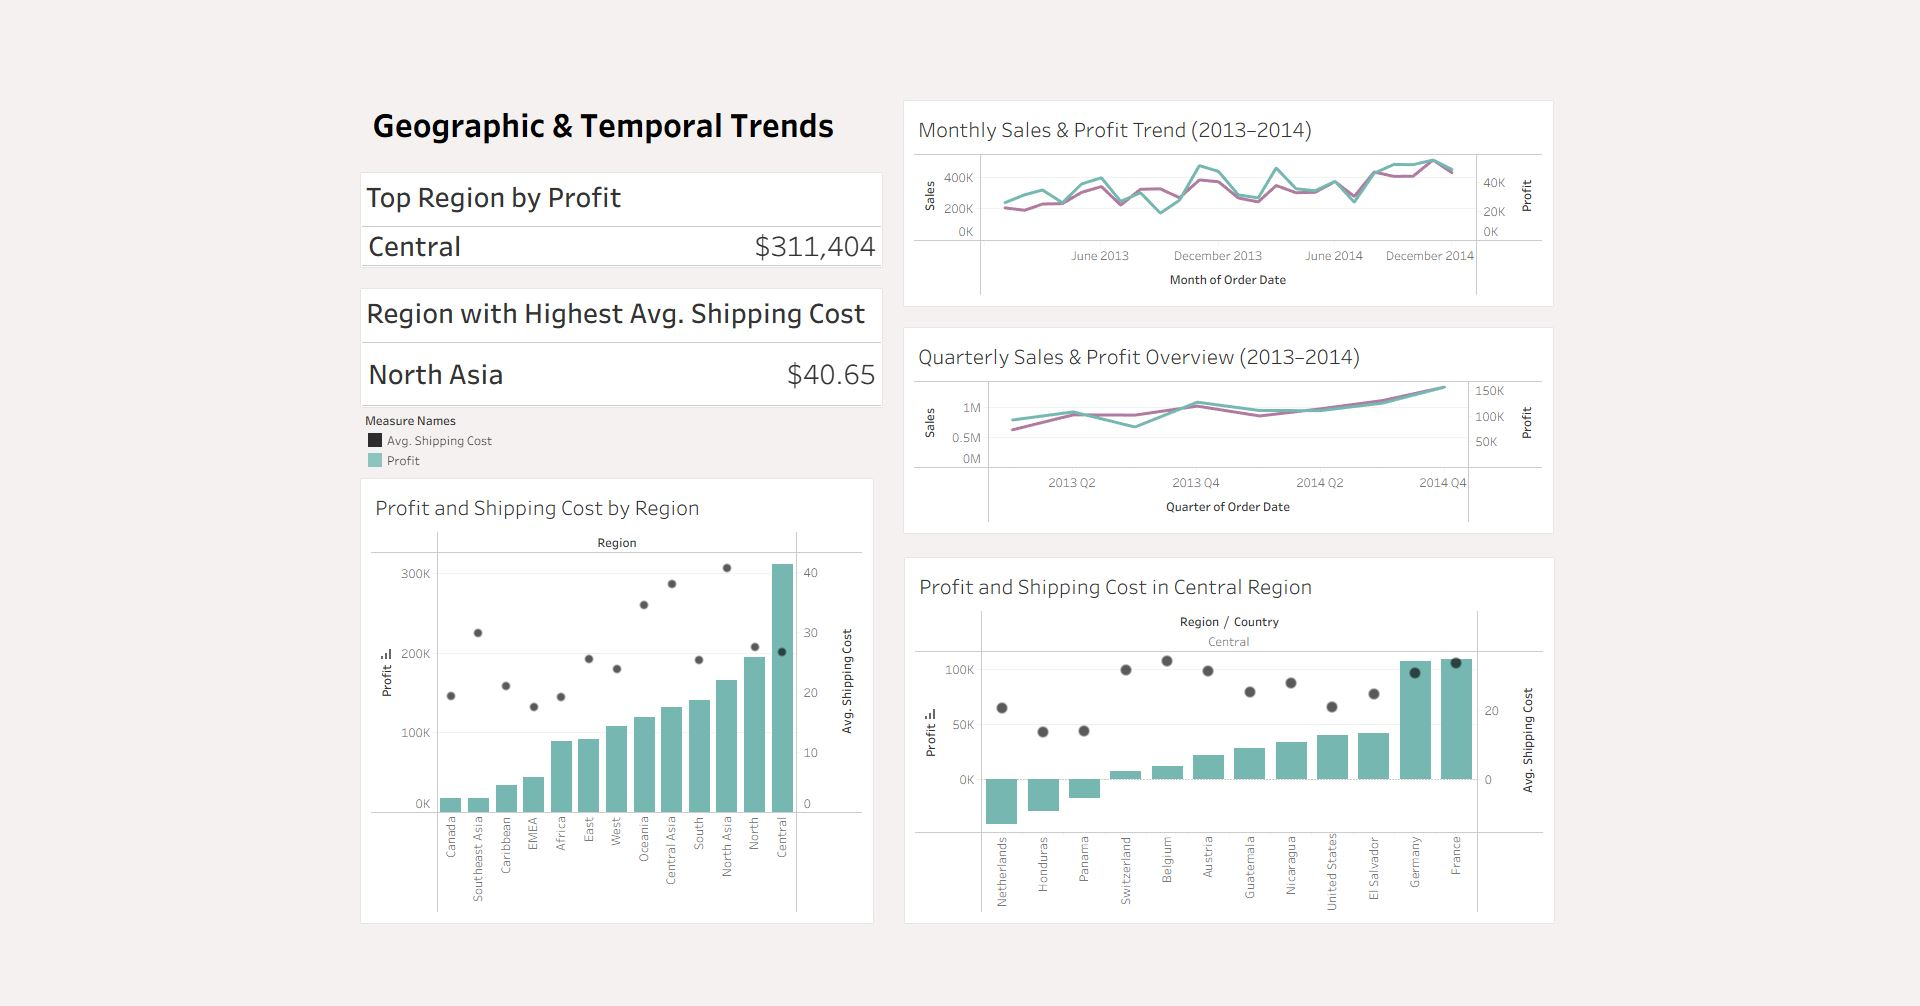

This screenshot's page, from the dashboard's own definition file:
{"tool":"tableau","page":{"name":"Geographic & Temporal Trends","canvas":[1000,1000],"units":"permille","ordinal":1},"visuals":[{"type":"text","box":[0,16.3,445.1,87.2]},{"type":"worksheet","title":"Monthly Sales & Profit Trend (2013–2014)","mark":"Automatic","rows":["Sales","Profit"],"cols":["Order_Date"],"box":[445.1,19.8,550,263.9]},{"type":"worksheet","title":"Top Region by Profit","mark":"Automatic","rows":["Region"],"box":[0,103.5,445.1,134.9]},{"type":"worksheet","title":"Region with Highest Avg. Shipping Cost","mark":"Automatic","rows":["Region"],"box":[0,238.4,445.1,162.8]},{"type":"worksheet","title":"Quarterly Sales & Profit Overview (2013–2014)","mark":"Automatic","rows":["Sales","Profit"],"cols":["Order_Date"],"box":[445.1,283.7,550,263.9]},{"type":"legend","title":"Profit and Shipping Cost in Central Region","param":"[federated.0g22q150zr19dk14zl6151vhu72g].[:Measure Names]","box":[9,389.5,120.5,114]},{"type":"worksheet","title":"Profit and Shipping Cost by Region","mark":"Bar","rows":["Profit","Shipping_Cost"],"cols":["Region"],"box":[0,459.3,437.7,541.9]},{"type":"worksheet","title":"Profit and Shipping Cost in Central Region","mark":"Automatic","rows":["Profit","Shipping_Cost"],"cols":["Region","Country"],"box":[445.9,551.2,550,450]}]}

Visuals, with their boxes on the dashboard's canvas, which has no fixed pixel size, in thousandths of its width and height (x1, y1, x2, y2). These are canvas units, not pixel positions in the 1920x1006 screenshot, which may show the page scaled, cropped or inside an application window:
text: (left=0, top=16, right=445, bottom=104)
"Monthly Sales & Profit Trend (2013–2014)" worksheet: (left=445, top=20, right=995, bottom=284)
"Top Region by Profit" worksheet: (left=0, top=104, right=445, bottom=238)
"Region with Highest Avg. Shipping Cost" worksheet: (left=0, top=238, right=445, bottom=401)
"Quarterly Sales & Profit Overview (2013–2014)" worksheet: (left=445, top=284, right=995, bottom=548)
"Profit and Shipping Cost in Central Region" legend: (left=9, top=390, right=130, bottom=504)
"Profit and Shipping Cost by Region" worksheet (Bar marks): (left=0, top=459, right=438, bottom=1001)
"Profit and Shipping Cost in Central Region" worksheet: (left=446, top=551, right=996, bottom=1001)
